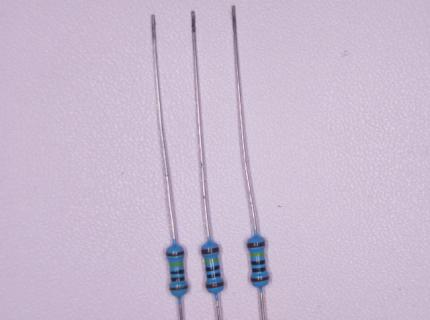Black band: (170, 269, 184, 275), (206, 265, 220, 271), (171, 276, 184, 282), (206, 273, 221, 278), (251, 260, 265, 265), (252, 267, 266, 272)
Brown band: (247, 240, 265, 248), (201, 247, 220, 254), (206, 282, 224, 289), (251, 276, 270, 282), (169, 285, 188, 291), (166, 251, 184, 256)
Yellow band: (169, 261, 183, 267), (205, 258, 219, 263), (250, 252, 264, 257)
